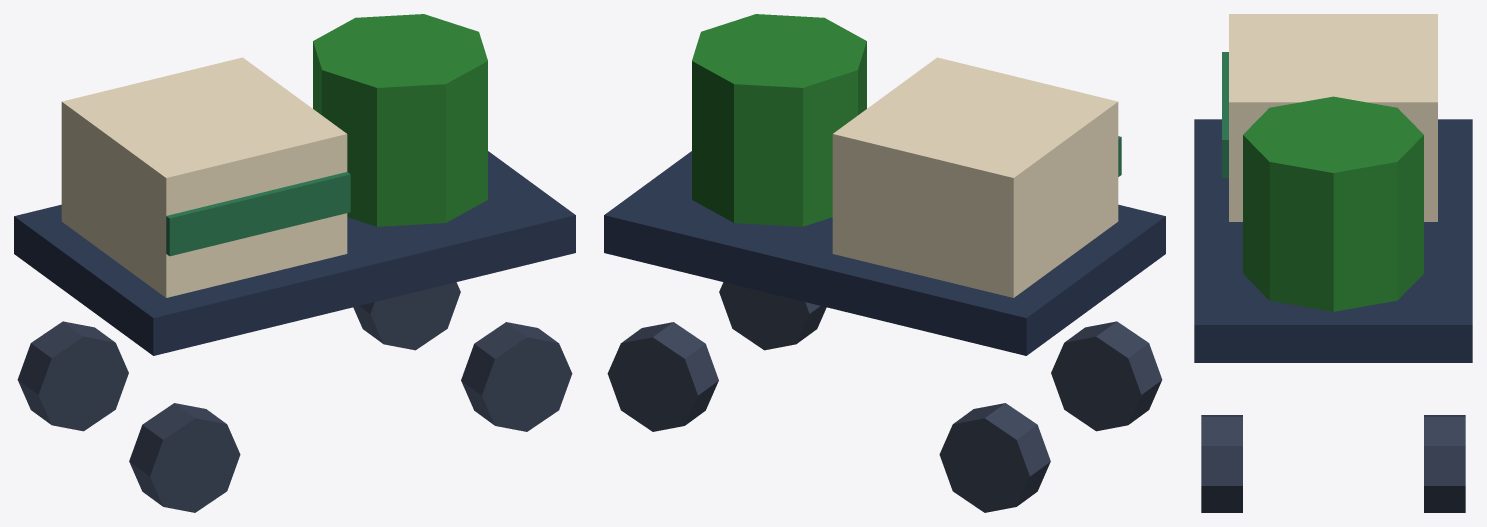
Rendered from tool_cart.glb.
3 views of the same model, side by side, from view 1: azimuth 30°, elevation 25°; view 2: azimuth 150°, elevation 25°; view 3: azimuth 270°, elevation 25° (orthographic).
Parts seen in each view (by area): view 1: tool_cart; view 2: tool_cart; view 3: tool_cart.
Part boxes in pixels (<box>): tool_cart: <box>14,14,575,512</box>; tool_cart: <box>604,14,1165,512</box>; tool_cart: <box>1194,14,1472,512</box>.
Size of the model in its own units: 1.4 by 1.1 by 0.8.
